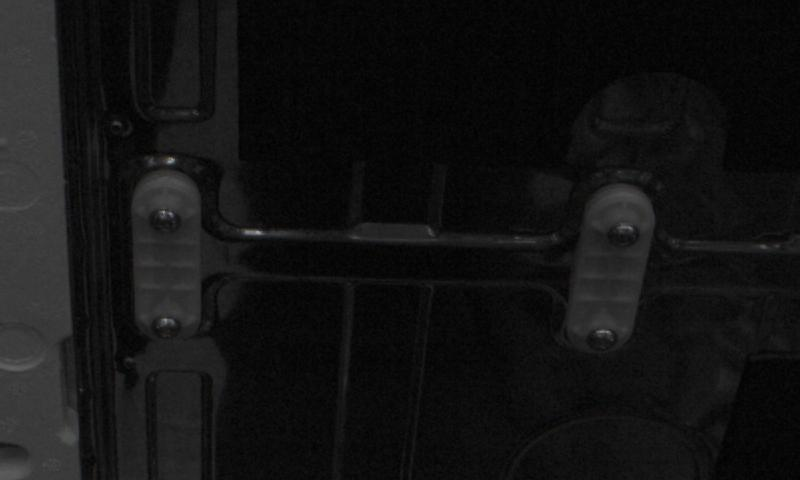vida-ok: (601, 211, 645, 251), (587, 319, 627, 358), (148, 197, 187, 236), (150, 309, 187, 344)
